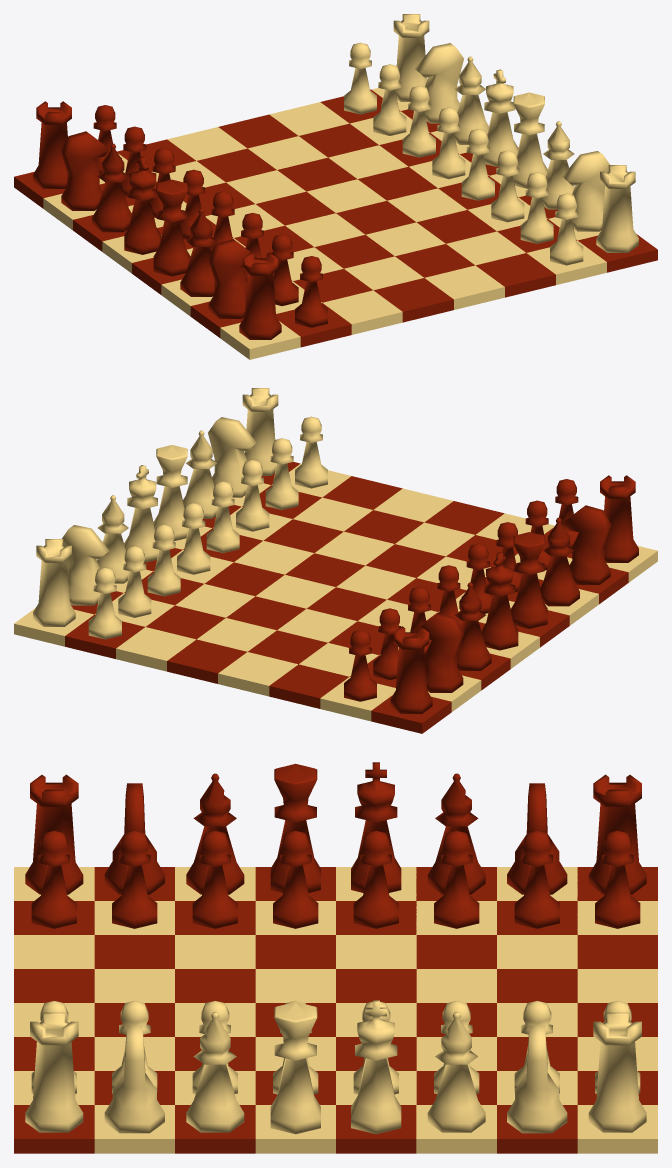
File: chess2.dae
3 views of the same model, one above another, from view 1: azimuth 30°, elevation 25°; view 2: azimuth 150°, elevation 25°; view 3: azimuth 270°, elevation 25° (orthographic). The views are drawn at different scales.
Parts seen in each view (by area): view 1: w_Ra, b_Ra, b_Ng, b_Q, b_Nb, w_Nb, b_Rh, b_K, w_Ng, w_Q, b_Bf, w_Rh (+70 smaller); view 2: w_Rh, b_Rh, b_Nb, b_Q, b_Ng, w_Ng, b_Ra, b_K, w_Nb, w_Q, b_Bc, w_Ra (+70 smaller); view 3: w_Rh, w_Ra, w_Q, w_K, w_Bc, w_Bf, w_Ng, w_Nb, b_Ra, b_Rh, b_Q, b_K (+81 smaller).
Boxes of the visible parts, x1,y1,x2,y2 form: w_Ra: (596, 165, 638, 252); b_Ra: (239, 252, 281, 339); b_Ng: (60, 131, 109, 210); b_Q: (153, 179, 190, 276); b_Nb: (208, 239, 256, 318); w_Nb: (562, 151, 609, 231); b_Rh: (33, 101, 71, 188); b_K: (124, 156, 160, 254); w_Ng: (415, 43, 463, 123); w_Q: (513, 92, 547, 188); b_Bf: (92, 143, 131, 232); w_Rh: (393, 14, 429, 101); w_Rh: (33, 539, 75, 626); b_Rh: (390, 626, 432, 713); b_Nb: (562, 505, 611, 584); b_Q: (511, 532, 547, 628); b_Ng: (415, 613, 463, 692); w_Ng: (62, 525, 109, 605); b_Ra: (600, 475, 638, 562); b_K: (481, 552, 518, 650); w_Nb: (208, 417, 256, 497); w_Q: (153, 445, 188, 541); b_Bc: (540, 517, 579, 606); w_Ra: (242, 388, 278, 475); w_Rh: (588, 1012, 646, 1132); w_Ra: (25, 1012, 83, 1132); w_Q: (270, 1002, 320, 1134); w_K: (351, 1000, 401, 1134); w_Bc: (186, 1012, 244, 1132); w_Bf: (427, 1012, 485, 1132); w_Ng: (507, 1025, 567, 1133); w_Nb: (104, 1025, 164, 1133); b_Ra: (25, 774, 83, 894); b_Rh: (588, 774, 646, 894); b_Q: (270, 763, 320, 892); b_K: (351, 762, 401, 892).
Size of the model in its own units: 16 by 16 by 3.69.
